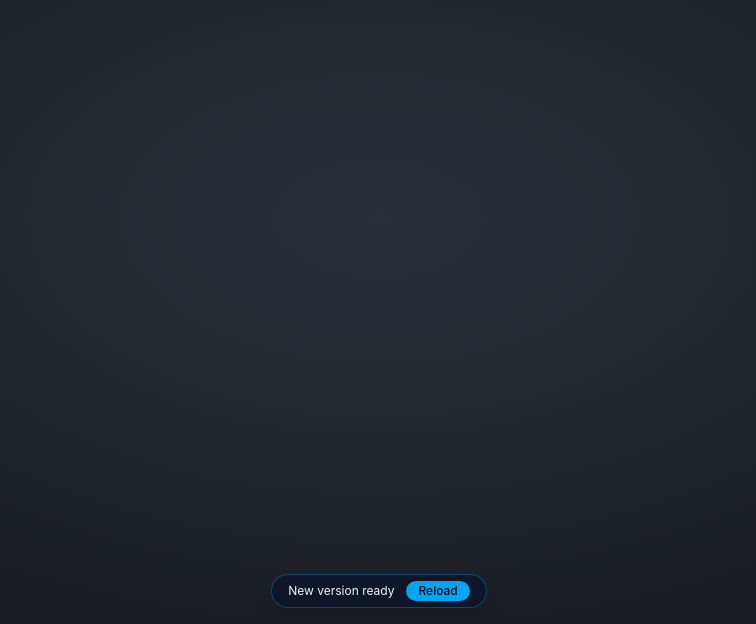
Scenario: UpdateToast › shows update prompt and triggers onReload when Reload is clicked
The image size is (756, 624).
Expected: the message "New version ready Reload" is shown, 271,574 -> 487,608
Expected: the text "New version ready" is shown, 288,583 -> 394,599
Click the button "Reload": (438, 591) 406,581 -> 470,601
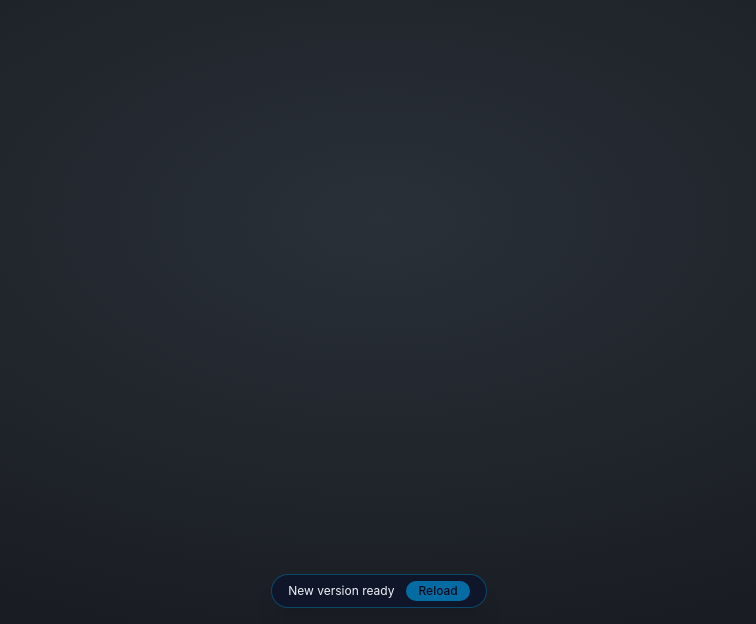
Now the button "Reload" is disabled, box 406,581 -> 470,601
